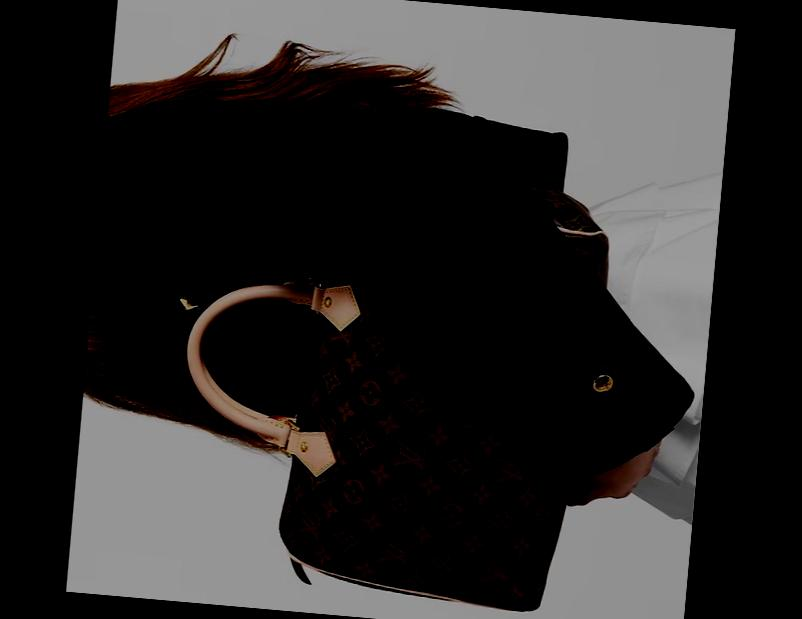LOUIS-VUITTON: (282, 158, 602, 602)
